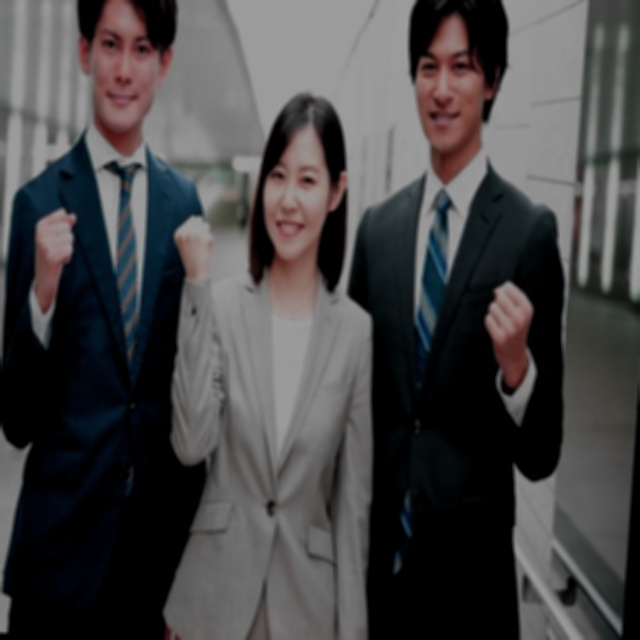Sin_Casco_Mascarrilla: (253, 89, 354, 266), (397, 0, 515, 149), (71, 0, 181, 127)
Sin_Chaleco: (332, 173, 550, 640), (0, 146, 220, 603), (176, 280, 379, 640)
